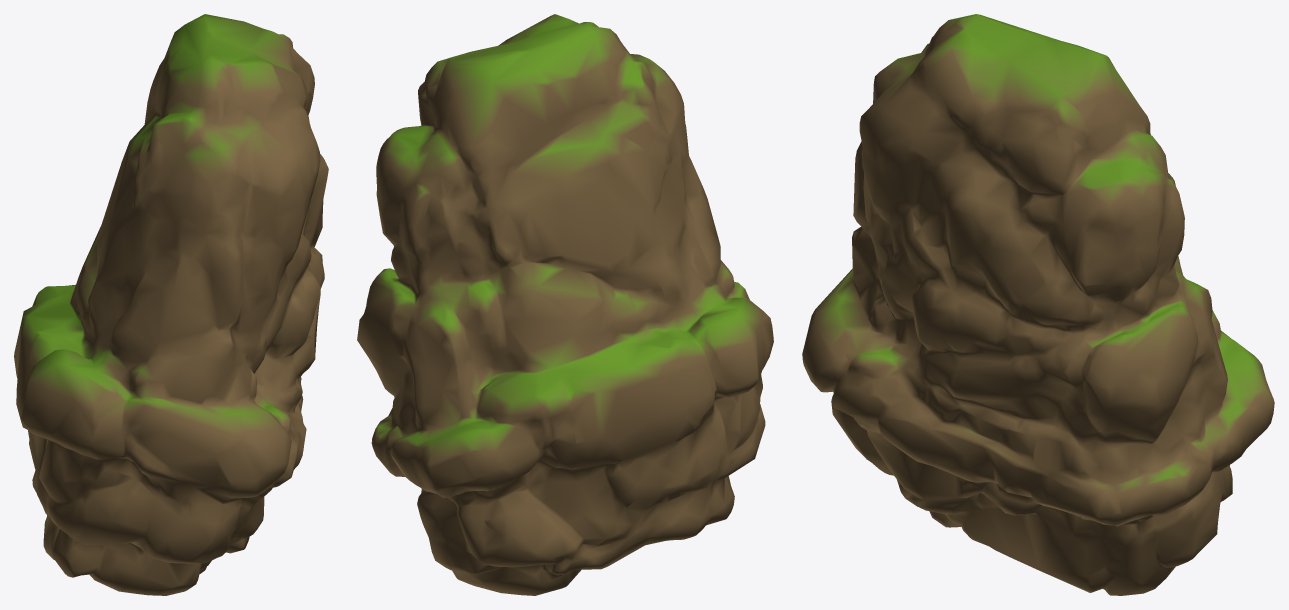
The model's file is cell_x-4_z-1_render.gltf.
The picture shows the model from 3 angles, left to right: view 1: azimuth 30°, elevation 25°; view 2: azimuth 150°, elevation 25°; view 3: azimuth 270°, elevation 25°; orthographic projection. The views are drawn at different scales.
Parts seen in each view (by area): view 1: SM_ENV_cliff_castle_02_LOD0.034; view 2: SM_ENV_cliff_castle_02_LOD0.034; view 3: SM_ENV_cliff_castle_02_LOD0.034.
Boxes of the visible parts, x1=… form: SM_ENV_cliff_castle_02_LOD0.034: x1=14, y1=14, x2=328, y2=595; SM_ENV_cliff_castle_02_LOD0.034: x1=357, y1=14, x2=773, y2=595; SM_ENV_cliff_castle_02_LOD0.034: x1=802, y1=14, x2=1274, y2=595.
Bounding box in the file's own units: 73.91 × 109 × 83.35.
